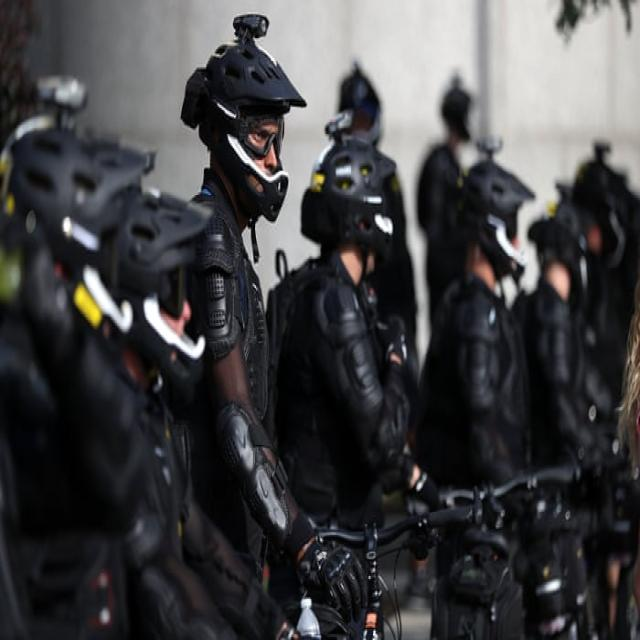police: (172, 6, 324, 640), (426, 125, 542, 640), (290, 105, 408, 552)
